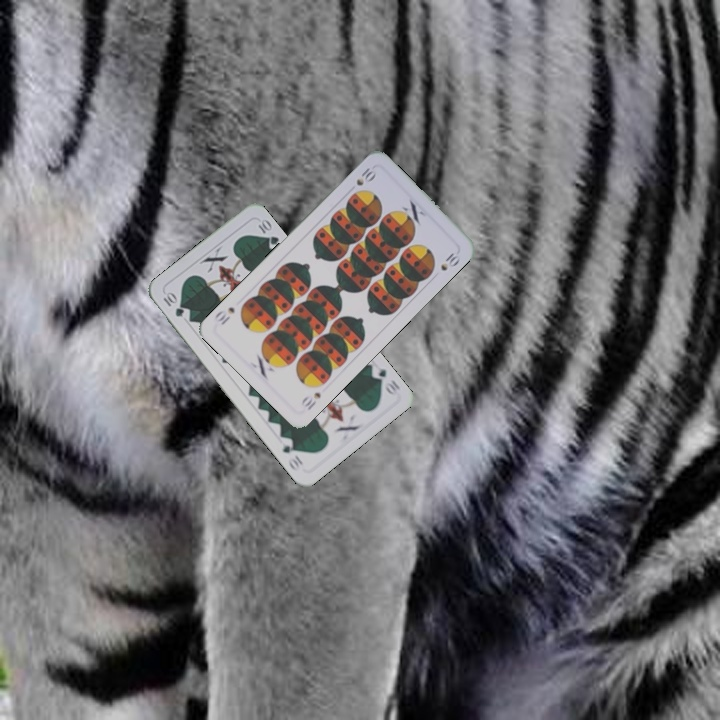G10: (367, 361, 403, 399), (159, 288, 187, 320)
S10: (297, 388, 323, 413), (352, 163, 377, 188)
